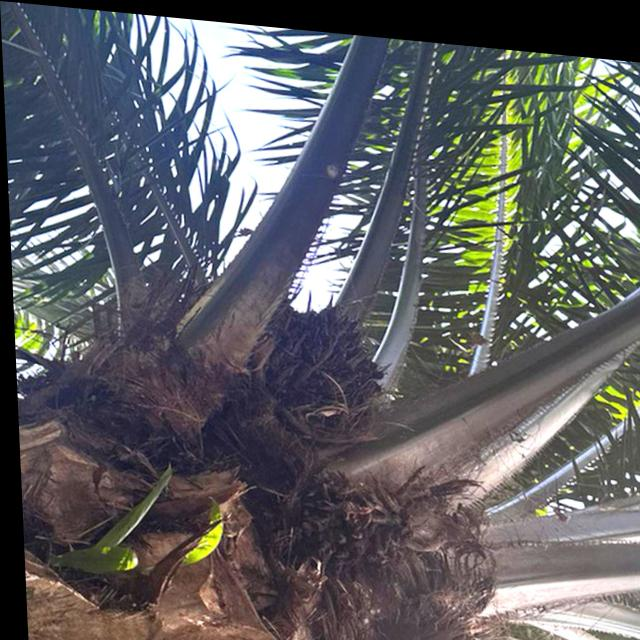ripe: (248, 273, 402, 438)
